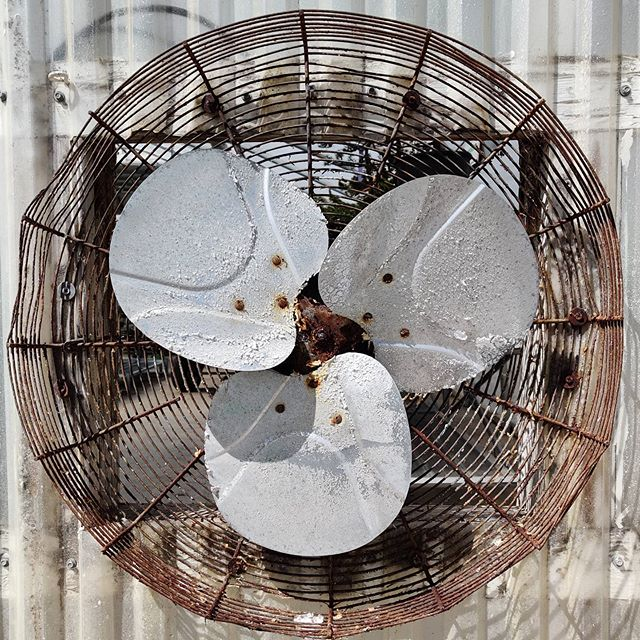fan: (42, 43, 607, 605)
